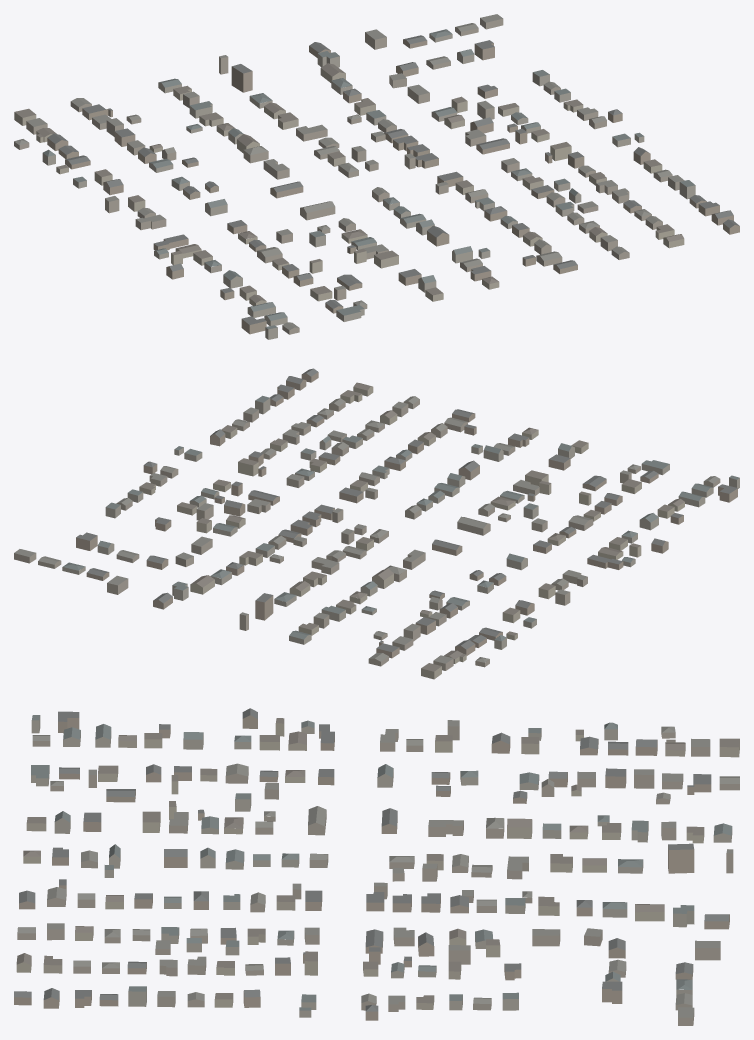
File: bb470b72a1ba-chunk-1198_11845.glb
3 views of the same model, one above another, from view 1: azimuth 30°, elevation 25°; view 2: azimuth 150°, elevation 25°; view 3: azimuth 270°, elevation 25° (orthographic). The views are drawn at different scales.
Visible parts, largest first — view 1: building_116891; view 2: no part large enough to name; view 3: building_116891, building_122324, building_66873, building_72568, building_135808.
Boxes of the visible parts, box(x1,y1,x2,y2) form: building_116891: box(231, 64, 252, 92); building_116891: box(668, 843, 694, 873); building_122324: box(428, 820, 463, 836); building_66873: box(635, 904, 664, 921); building_72568: box(507, 818, 532, 838); building_135808: box(695, 940, 720, 960).
Size of the model in its own units: 382 by 13.79 by 386.
